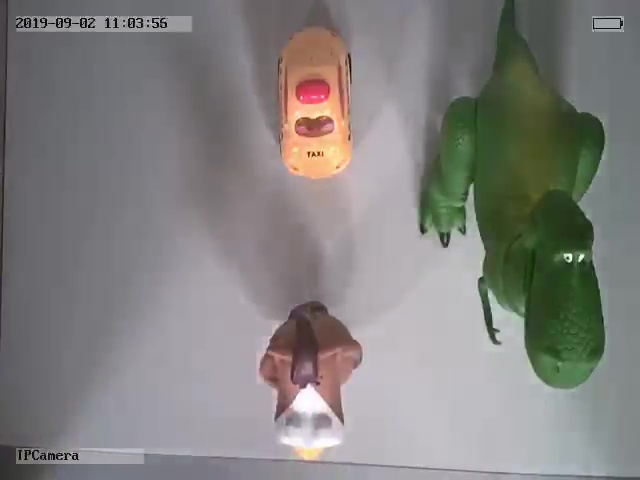car: (273, 23, 355, 178)
horse: (257, 301, 362, 461)
rex: (417, 4, 606, 391)
